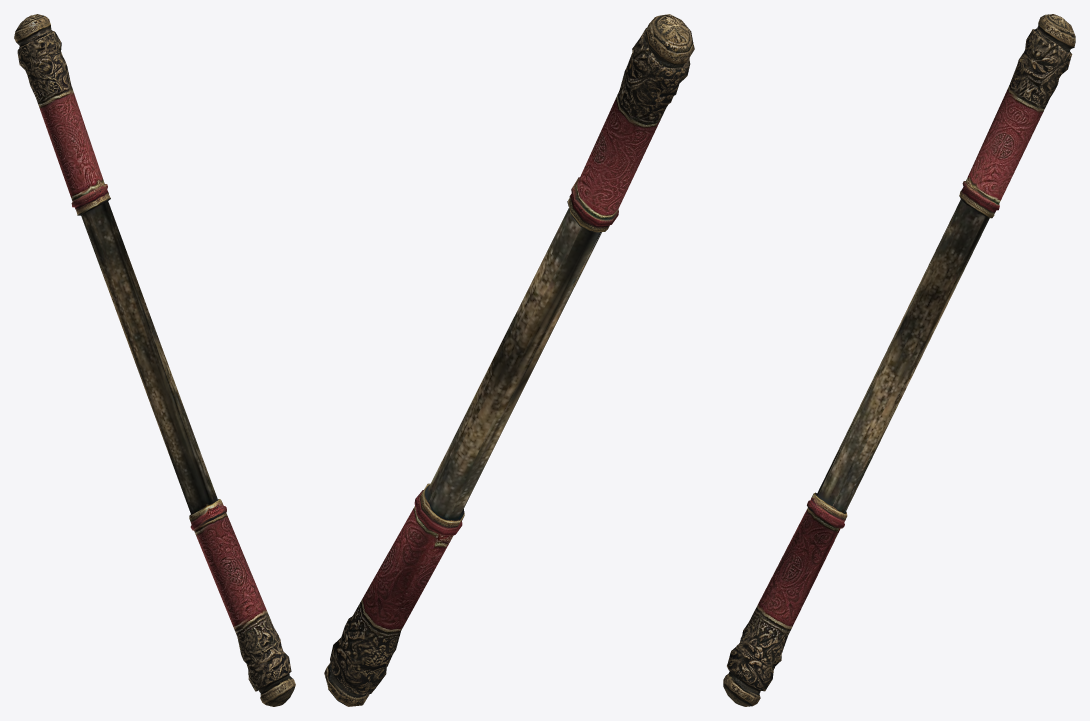
File: tripo_convert_342f9598-c0a6-4d37-9e65-4b9ef51363da.fbx
3 renders of one model, left to right at view 1: azimuth 30°, elevation 25°; view 2: azimuth 210°, elevation 25°; view 3: azimuth 270°, elevation 25°, orthographic. The views are drawn at different scales.
Visible parts, largest first — view 1: tripo_node_342f9598; view 2: tripo_node_342f9598; view 3: tripo_node_342f9598.
Boxes of the visible parts, <box> form: tripo_node_342f9598: <box>14,14,295,706</box>; tripo_node_342f9598: <box>324,14,694,706</box>; tripo_node_342f9598: <box>723,14,1075,706</box>.
Size of the model in its own units: 0.3396 by 1.53 by 0.7638.
1 material, 1 textured.
